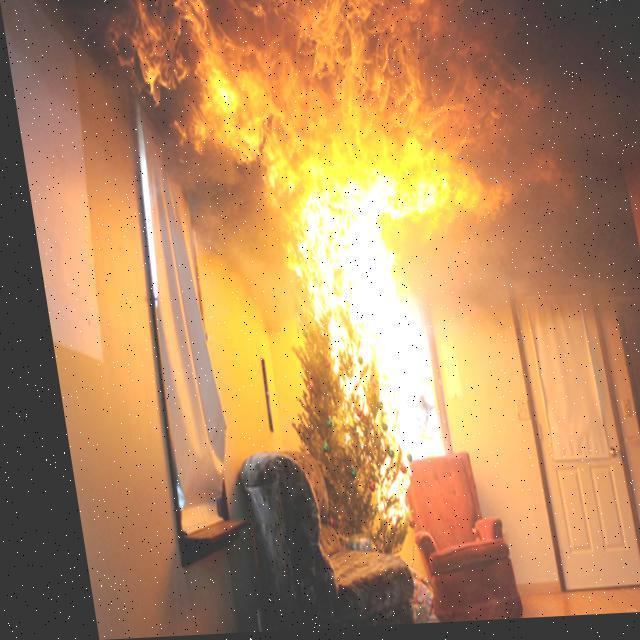Fire: (104, 0, 542, 257), (260, 0, 434, 515)
